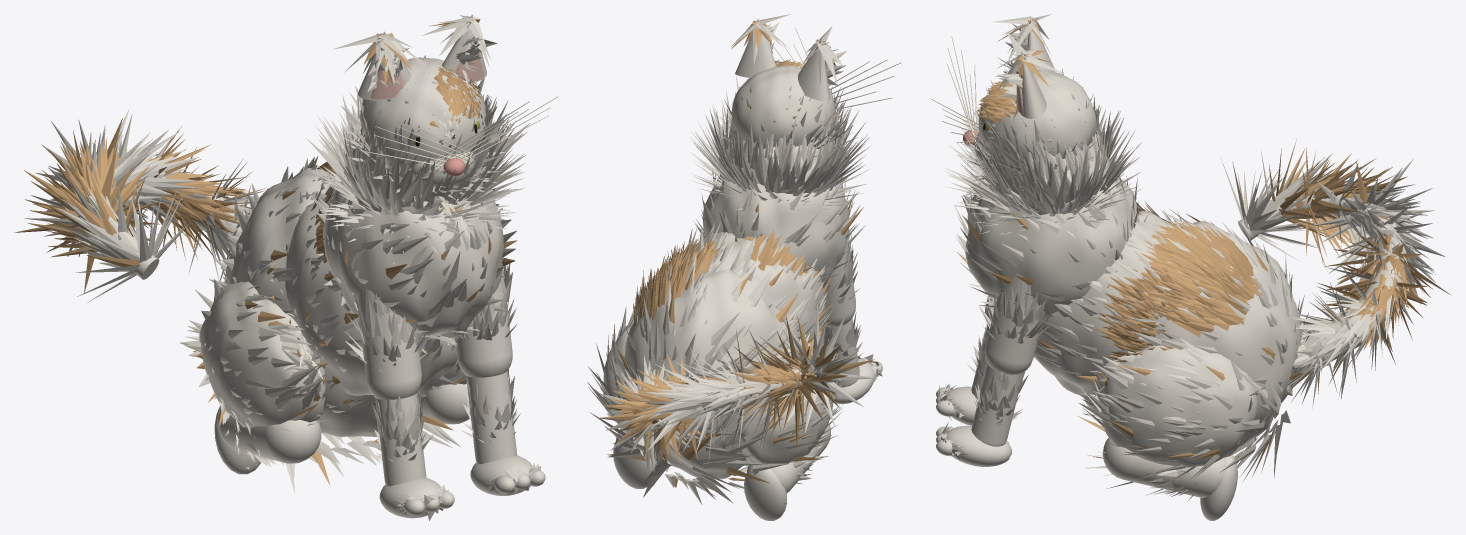
Rendered from hercules.source.glb.
The picture shows the model from 3 angles, left to right: view 1: azimuth 30°, elevation 25°; view 2: azimuth 150°, elevation 25°; view 3: azimuth 270°, elevation 25°; orthographic projection. The views are drawn at different scales.
Visible parts, largest first — view 1: chest, thigh_R, haunches, torso, skull, coat_chest_white, coat_thigh_R_white, upperFrontLeg_R, shin_R, lowerFrontLeg_L, upperFrontLeg_L, coat_foreleg_R_white (+15 smaller); view 2: haunches, chest, coat_rump_white, skull, thigh_R, coat_rumpPatch_tan, torso, coat_chest_white, coat_back_white, hindPaw_R, upperFrontLeg_R, hindPaw_L (+14 smaller); view 3: chest, thigh_L, coat_rumpPatch_tan, haunches, torso, coat_thigh_L_white, skull, coat_rump_white, coat_chest_white, coat_flankPatch_tan, coat_back_white, shin_L (+11 smaller).
Boxes of the visible parts, x1,y1,x2,y2 form: chest: [323, 181, 503, 340]; thigh_R: [199, 281, 325, 427]; haunches: [224, 167, 428, 437]; torso: [285, 186, 457, 395]; skull: [360, 57, 486, 167]; coat_chest_white: [312, 165, 516, 352]; coat_thigh_R_white: [179, 278, 335, 447]; upperFrontLeg_R: [357, 287, 421, 399]; shin_R: [217, 408, 321, 463]; lowerFrontLeg_L: [466, 371, 517, 464]; upperFrontLeg_L: [455, 269, 512, 377]; coat_foreleg_R_white: [345, 283, 431, 372]; haunches: [624, 258, 800, 479]; chest: [703, 177, 849, 286]; coat_rump_white: [606, 243, 807, 463]; skull: [731, 65, 835, 148]; thigh_R: [738, 342, 833, 464]; coat_rumpPatch_tan: [633, 237, 725, 327]; torso: [694, 232, 824, 343]; coat_chest_white: [693, 166, 865, 293]; coat_back_white: [682, 222, 839, 335]; hindPaw_R: [744, 467, 786, 520]; upperFrontLeg_R: [823, 239, 855, 327]; hindPaw_L: [613, 432, 655, 488]; chest: [965, 175, 1139, 318]; thigh_L: [1101, 345, 1257, 467]; coat_rumpPatch_tan: [1127, 220, 1262, 336]; haunches: [1083, 221, 1302, 447]; torso: [1034, 211, 1174, 395]; coat_thigh_L_white: [1079, 338, 1252, 482]; skull: [978, 70, 1096, 163]; coat_rump_white: [1072, 209, 1311, 439]; coat_chest_white: [954, 169, 1147, 307]; coat_flankPatch_tan: [1095, 267, 1174, 362]; coat_back_white: [1034, 201, 1183, 380]; shin_L: [1102, 437, 1225, 497].
Bounding box in the file's own units: 0.4266 × 0.5641 × 0.5832.
